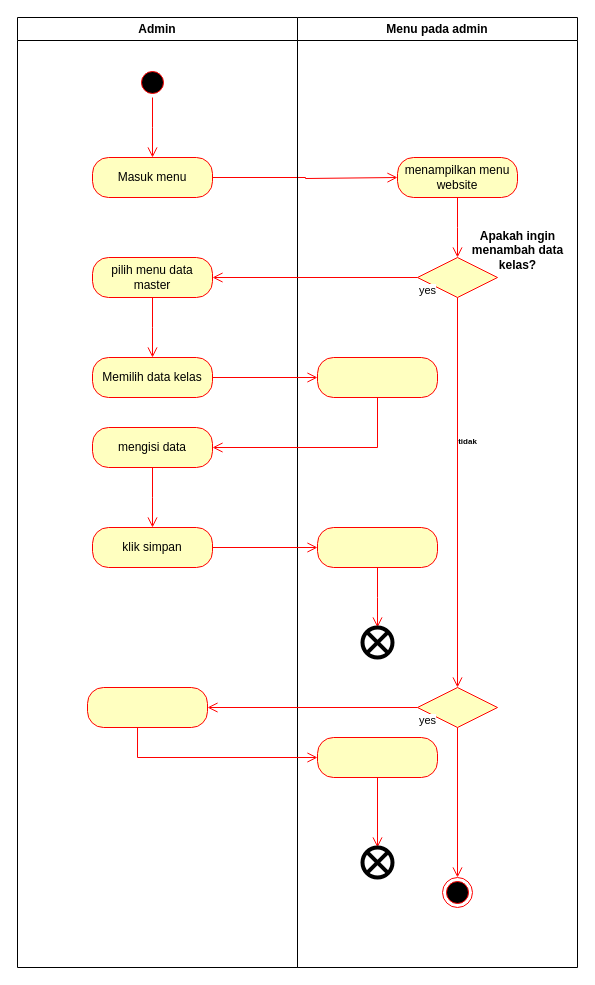
Some shapes in this 595 by 985 pixel diagram are drawn without their labels. The shapes that lost their labels are listed below. From the top down, each one's box as (x1, y1, x2, y2) in pixels, then its label:
(316, 356, 438, 398): menmpilkan data input
(316, 526, 438, 568): data telah disimpan
(86, 686, 208, 728): pilih menu hapus
(316, 736, 438, 778): data telah dihapus
